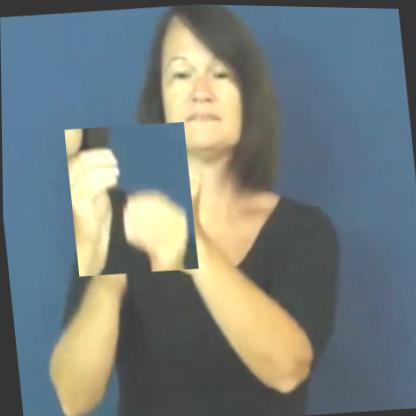Fix: (64, 119, 198, 278)
